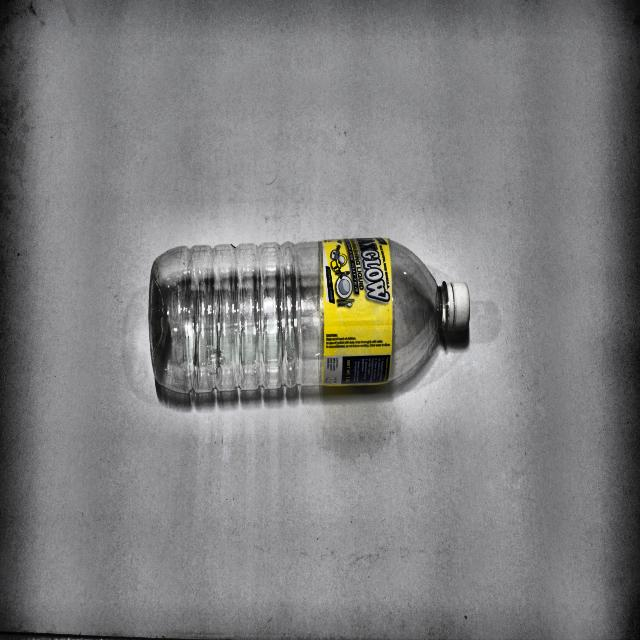Bottles: (145, 230, 474, 406)
